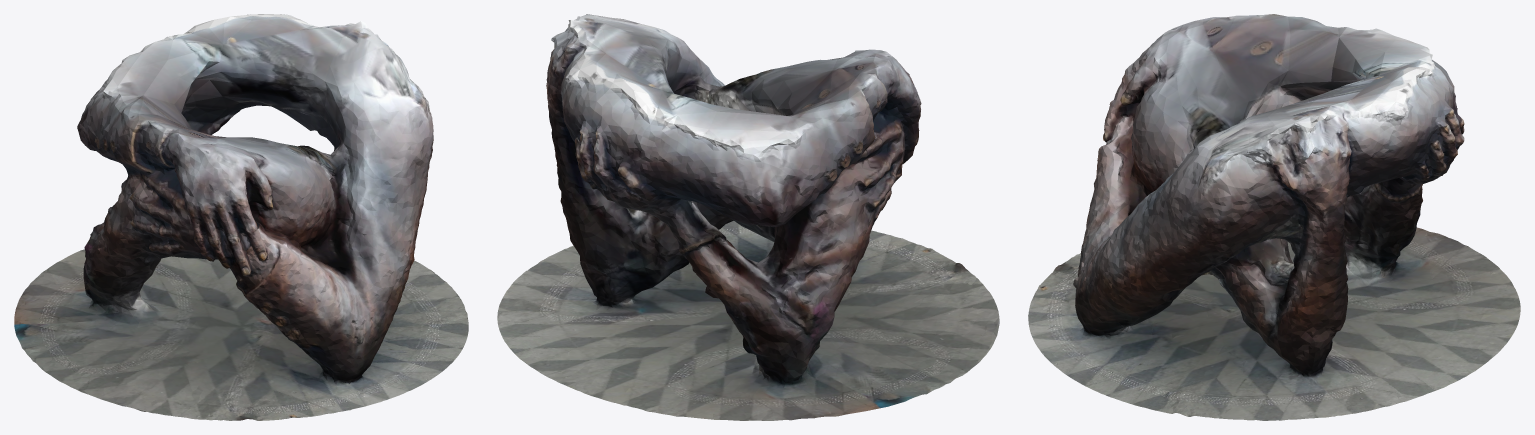
The model's file is preview.glb.
The picture shows the model from 3 angles, left to right: view 1: azimuth 30°, elevation 25°; view 2: azimuth 150°, elevation 25°; view 3: azimuth 270°, elevation 25°; orthographic projection. The views are drawn at different scales.
Size of the model in its own units: 10.38 by 6.46 by 10.36.
Materials: 1 (1 with a texture image).
